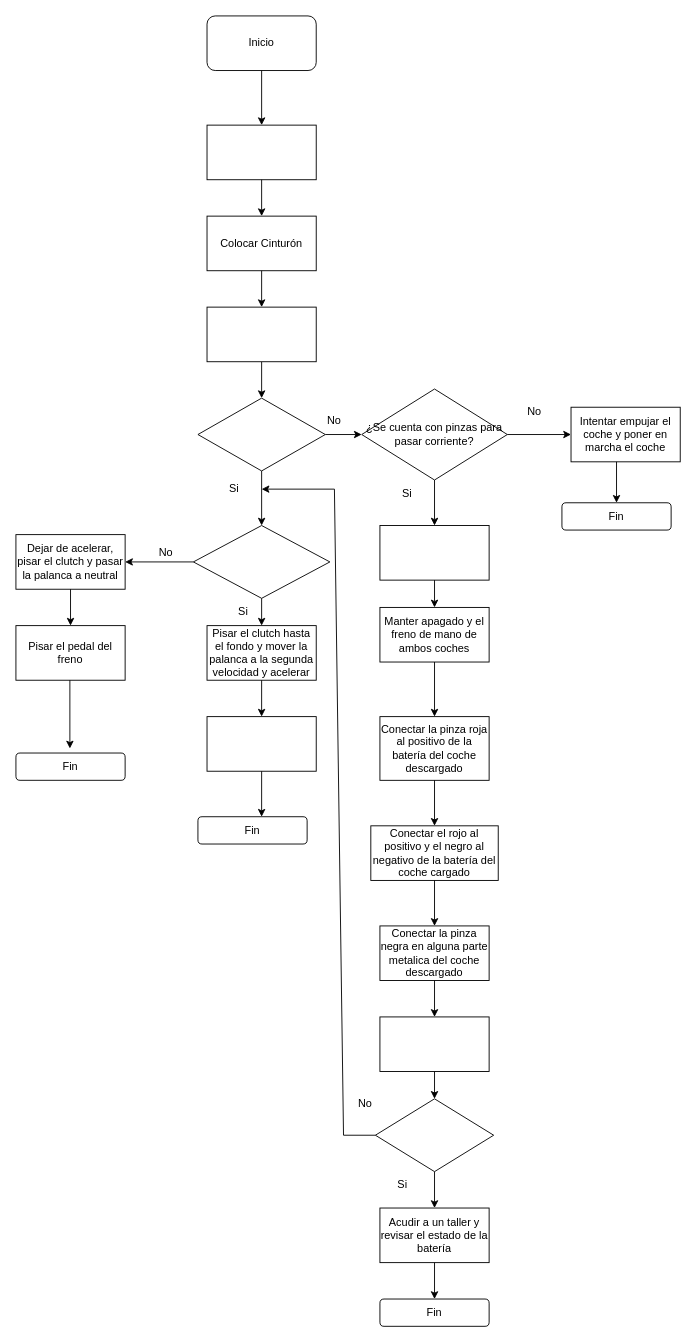
Some shapes in this 696 by 1342 pixel diagram are drawn without their labels. Each missing label, with the centre of its shape:
"Abrir Puerta" belongs at point (261, 152).
"Arrancar con el freno de mano desde el coche cargado" belongs at point (434, 1044).
"Cambiar de velocidad cuando el auto alcance las 3 y 4 mil revoluciones" belongs at point (261, 743).
"Colocar los vehiculos cerca" belongs at point (434, 552).
"Pisar el pedal del freno y el pedal del clutch y encender el auto" belongs at point (261, 334).
"¿El auto enciende?" belongs at point (261, 434).
"¿Quieres subir de velocidad?" belongs at point (261, 561).
"¿Sigue sin encender?" belongs at point (434, 1135).
